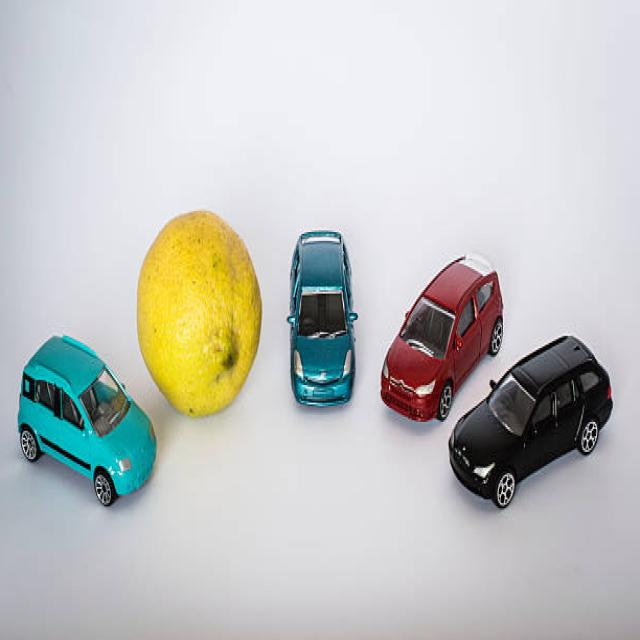Car: (448, 332, 614, 508), (18, 332, 158, 507), (381, 250, 504, 422), (287, 229, 358, 406)
